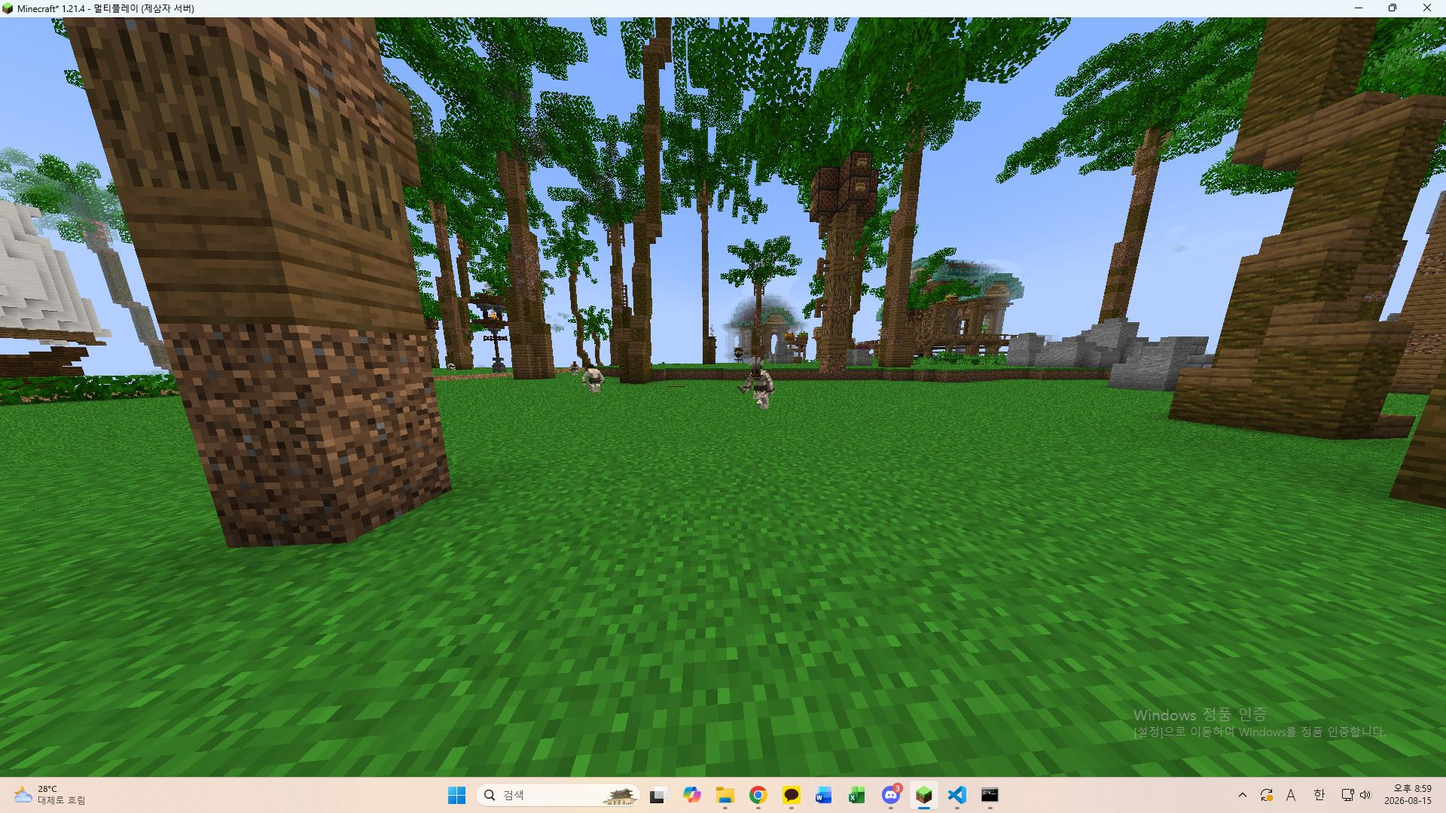bow_indian: (737, 356, 784, 413)
